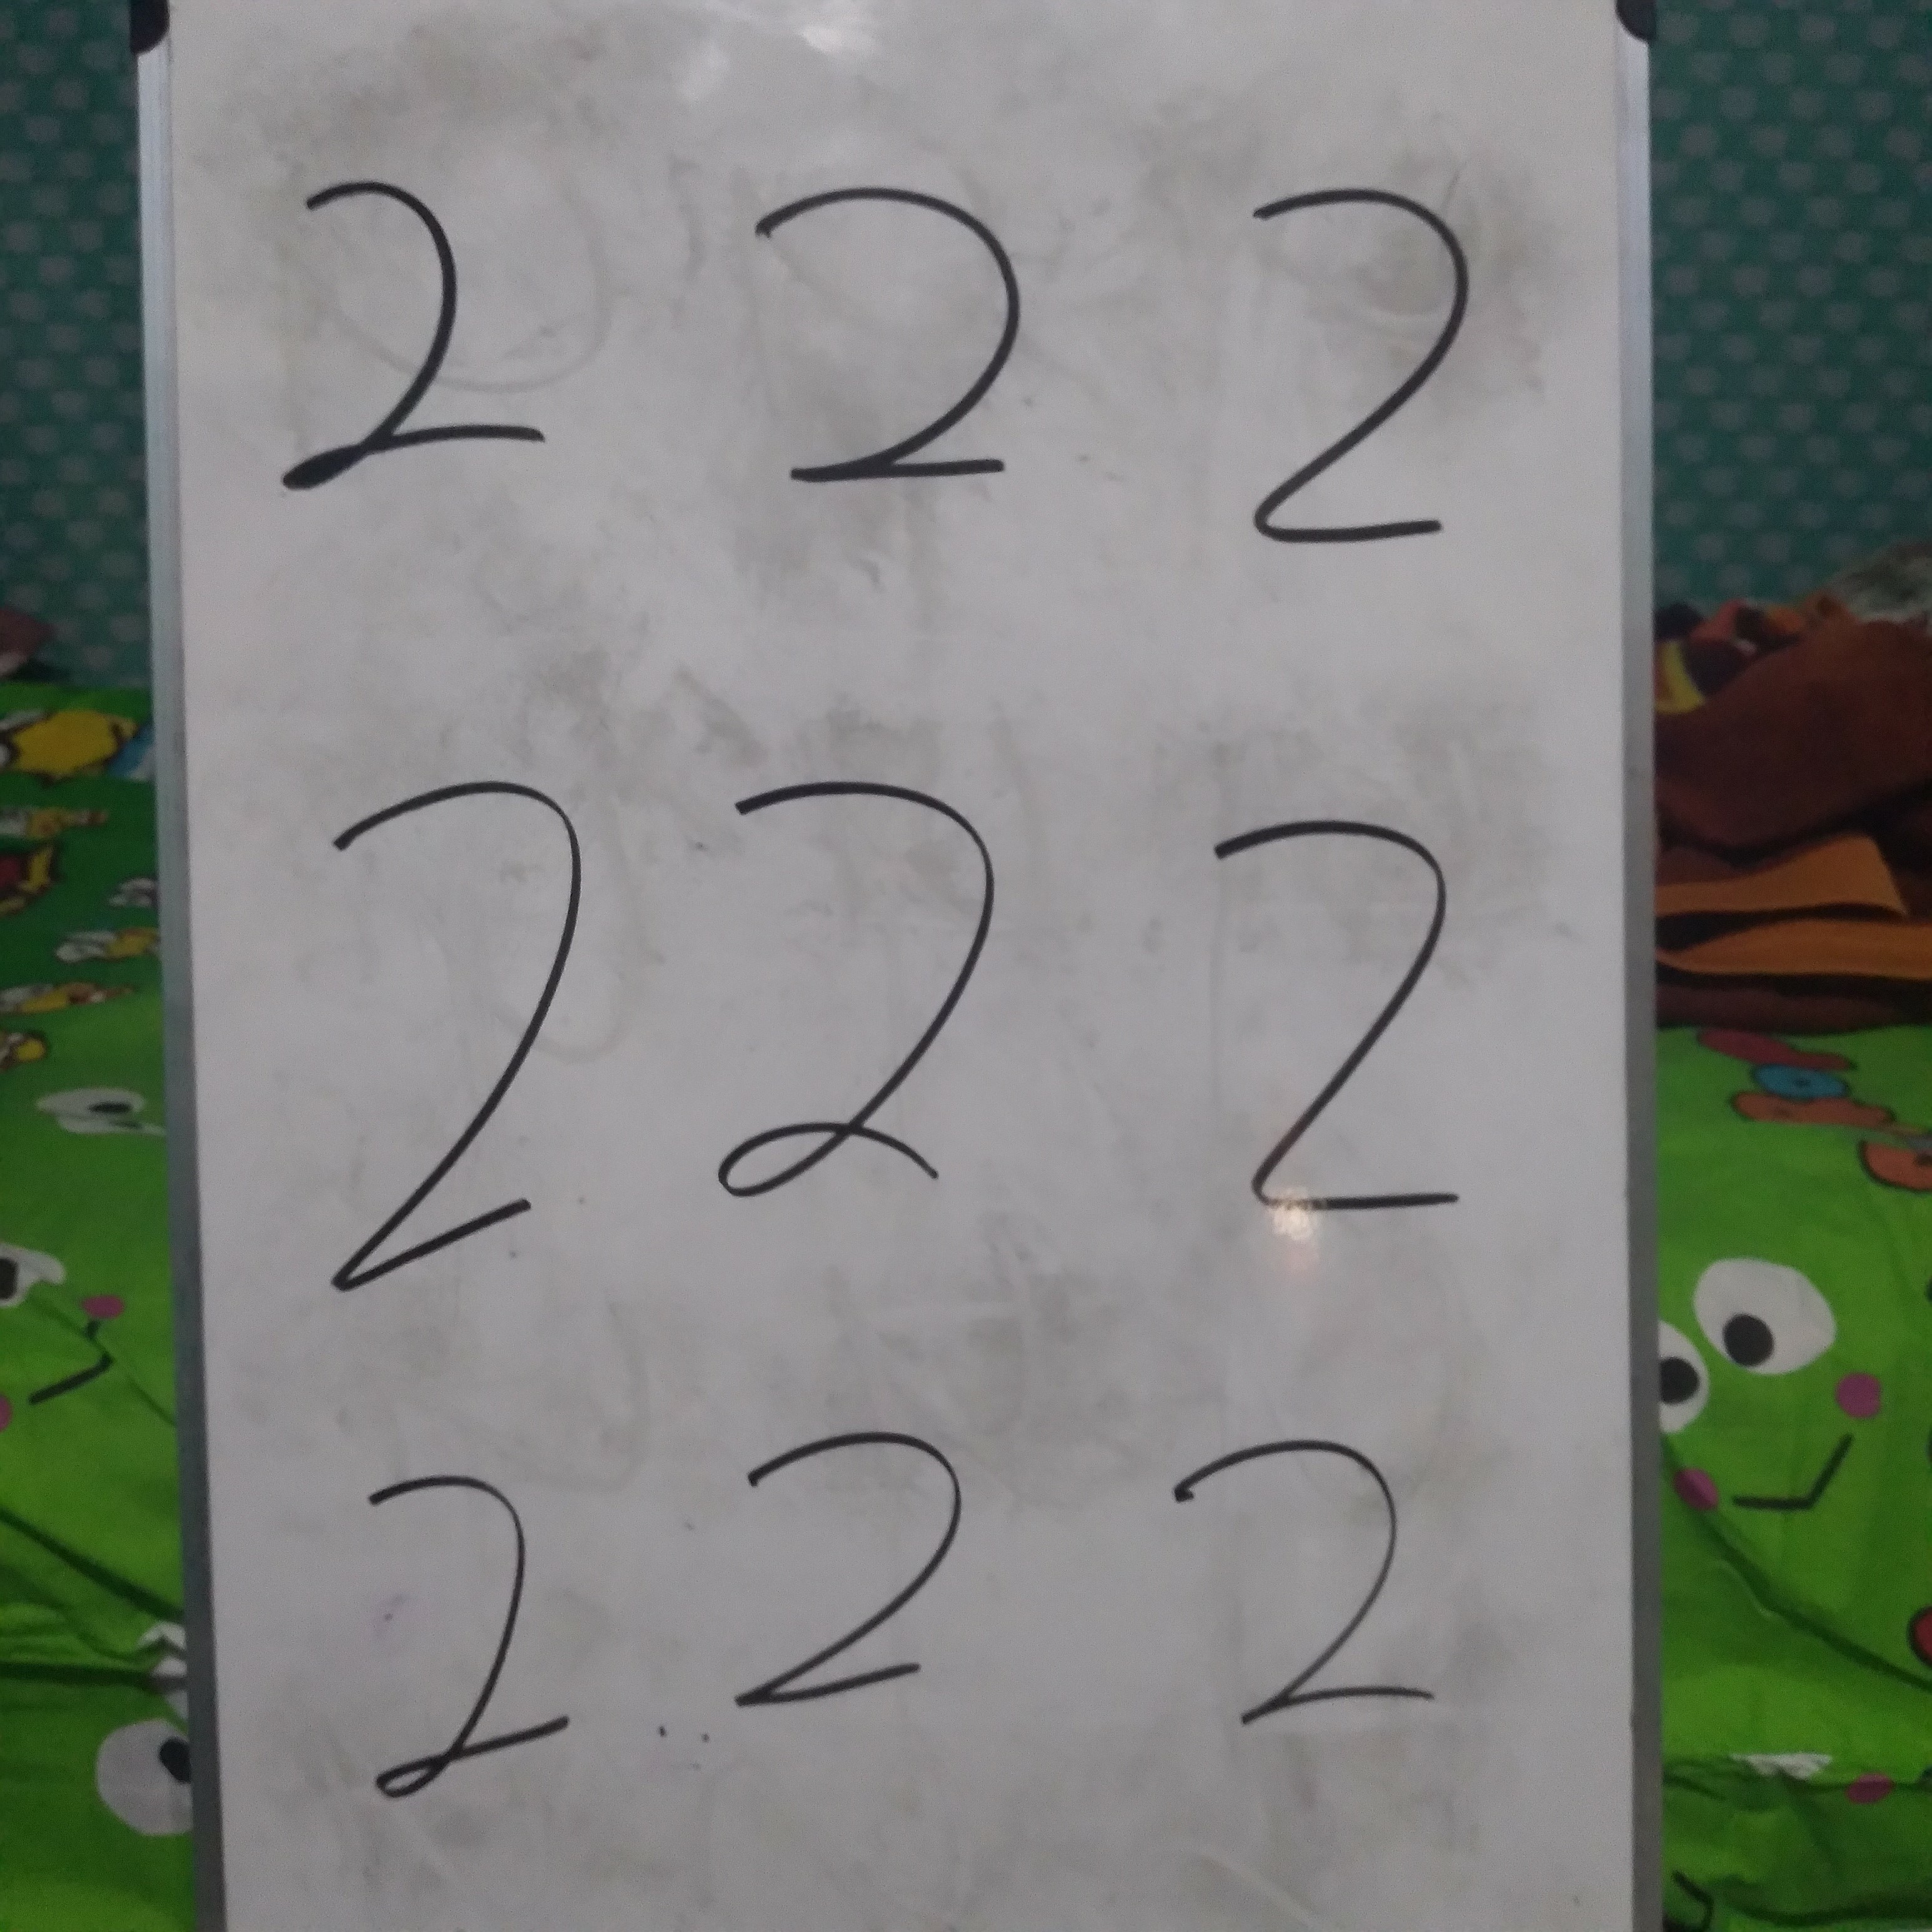num2: (275, 756, 601, 1298), (1189, 745, 1516, 1287), (684, 738, 1011, 1280), (258, 138, 564, 536), (1149, 1368, 1454, 1765), (280, 1441, 586, 1839), (1202, 184, 1508, 581), (695, 1398, 1000, 1796), (748, 157, 1053, 554)
